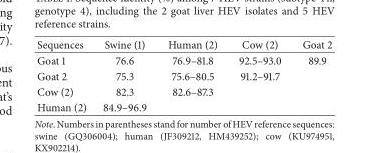table: (36, 36, 331, 114)
table column: (156, 36, 227, 114), (227, 36, 291, 114), (94, 36, 156, 114), (36, 36, 94, 114), (291, 36, 331, 114)
table column header: (36, 36, 331, 52)
table row: (36, 36, 331, 52), (36, 67, 331, 83), (36, 83, 331, 99), (36, 52, 331, 67), (36, 99, 331, 114)
